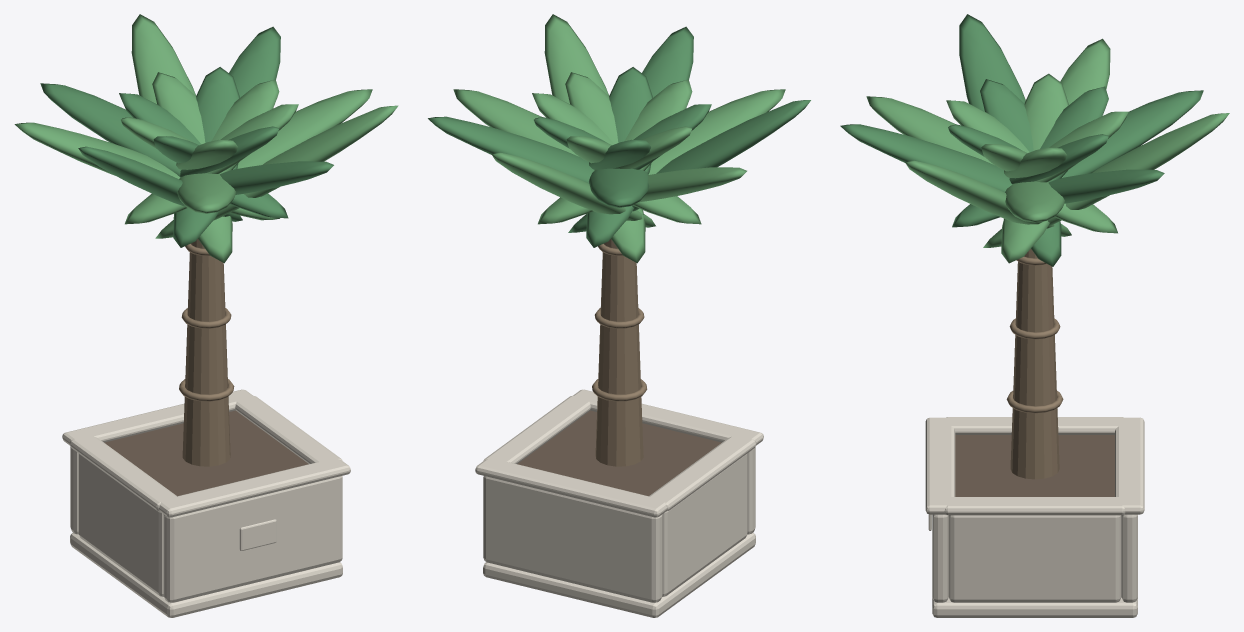
The model's file is prop_palm_planter.glb.
3 views of the same model, side by side, from view 1: azimuth 30°, elevation 25°; view 2: azimuth 150°, elevation 25°; view 3: azimuth 270°, elevation 25° (orthographic).
Parts seen in each view (by area): view 1: prop_palm_planter_wall_f, prop_palm_planter_soil, prop_palm_planter_wall_l, prop_palm_planter_base, prop_palm_planter_frond_0, prop_palm_planter_frond_3, prop_palm_planter_frond_2, prop_palm_planter_coping_f, prop_palm_planter_frond_1, prop_palm_planter_frond_8, prop_palm_planter_trunk_0, prop_palm_planter_trunk_1 (+19 smaller); view 2: prop_palm_planter_wall_b, prop_palm_planter_soil, prop_palm_planter_wall_l, prop_palm_planter_base, prop_palm_planter_frond_8, prop_palm_planter_coping_b, prop_palm_planter_frond_0, prop_palm_planter_frond_6, prop_palm_planter_frond_5, prop_palm_planter_frond_1, prop_palm_planter_frond_7, prop_palm_planter_trunk_0 (+18 smaller); view 3: prop_palm_planter_wall_r, prop_palm_planter_soil, prop_palm_planter_frond_3, prop_palm_planter_frond_5, prop_palm_planter_frond_6, prop_palm_planter_frond_7, prop_palm_planter_frond_4, prop_palm_planter_base, prop_palm_planter_coping_r, prop_palm_planter_frond_2, prop_palm_planter_trunk_0, prop_palm_planter_trunk_1 (+18 smaller).
Boxes of the visible parts, <box> form: prop_palm_planter_wall_f: <box>163,476,342,602</box>; prop_palm_planter_soil: <box>104,410,308,496</box>; prop_palm_planter_wall_l: <box>78,454,163,596</box>; prop_palm_planter_base: <box>70,533,342,617</box>; prop_palm_planter_frond_0: <box>125,89,372,224</box>; prop_palm_planter_frond_3: <box>40,83,288,218</box>; prop_palm_planter_frond_2: <box>131,14,232,263</box>; prop_palm_planter_coping_f: <box>159,458,350,517</box>; prop_palm_planter_frond_1: <box>173,26,280,247</box>; prop_palm_planter_frond_8: <box>155,105,398,238</box>; prop_palm_planter_trunk_0: <box>182,396,230,466</box>; prop_palm_planter_trunk_1: <box>185,324,227,394</box>; prop_palm_planter_wall_b: <box>483,476,662,602</box>; prop_palm_planter_soil: <box>517,410,721,496</box>; prop_palm_planter_wall_l: <box>662,453,747,596</box>; prop_palm_planter_base: <box>483,533,755,617</box>; prop_palm_planter_frond_8: <box>544,14,645,263</box>; prop_palm_planter_coping_b: <box>475,458,666,517</box>; prop_palm_planter_frond_0: <box>453,89,701,224</box>; prop_palm_planter_frond_6: <box>538,89,785,224</box>; prop_palm_planter_frond_5: <box>568,100,810,232</box>; prop_palm_planter_frond_1: <box>428,116,594,183</box>; prop_palm_planter_frond_7: <box>586,26,693,247</box>; prop_palm_planter_trunk_0: <box>595,396,643,466</box>; prop_palm_planter_wall_r: <box>948,515,1121,602</box>; prop_palm_planter_soil: <box>955,435,1114,496</box>; prop_palm_planter_frond_3: <box>952,90,1203,227</box>; prop_palm_planter_frond_5: <box>959,14,1061,266</box>; prop_palm_planter_frond_6: <box>866,96,1117,233</box>; prop_palm_planter_frond_7: <box>840,124,1012,192</box>; prop_palm_planter_frond_4: <box>1001,38,1110,263</box>; prop_palm_planter_base: <box>932,597,1137,617</box>; prop_palm_planter_coping_r: <box>944,497,1125,515</box>; prop_palm_planter_frond_2: <box>983,113,1229,247</box>; prop_palm_planter_trunk_0: <box>1010,408,1059,479</box>; prop_palm_planter_trunk_1: <box>1013,335,1056,406</box>.
Size of the model in its own units: 2.32 by 3.24 by 2.37.
